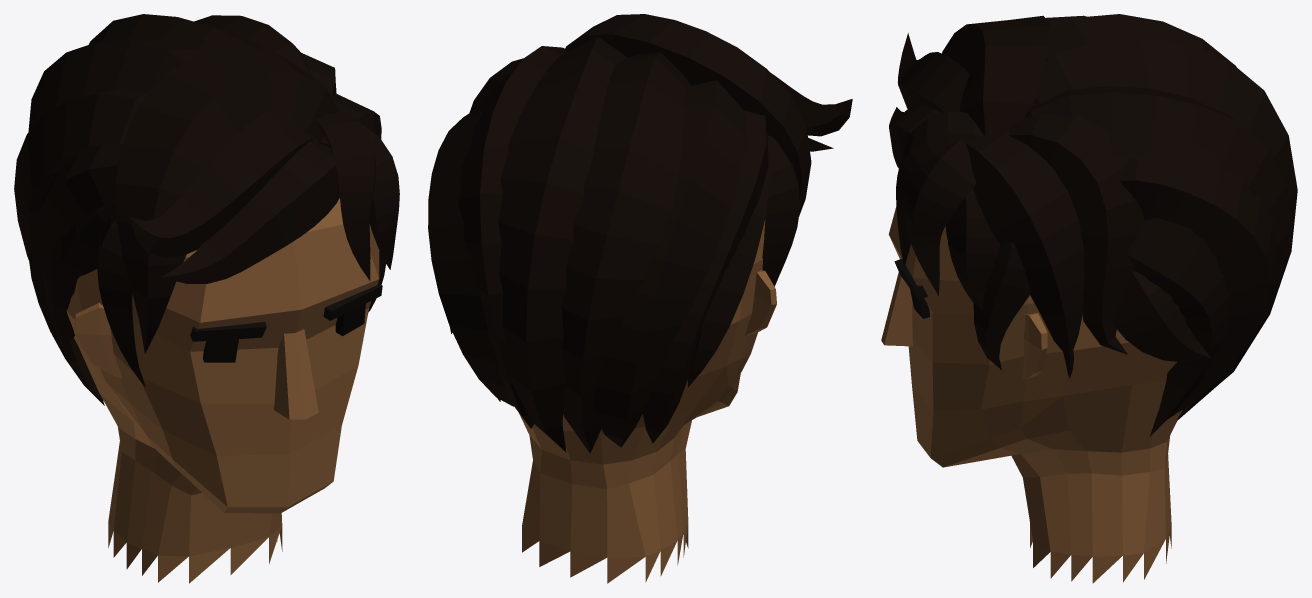
File: BMan_Head.obj
3 views of the same model, side by side, from view 1: azimuth 30°, elevation 25°; view 2: azimuth 150°, elevation 25°; view 3: azimuth 270°, elevation 25° (orthographic). The views are drawn at different scales.
Bounding box in the file's own units: 0.2258 × 0.3544 × 0.2599.
